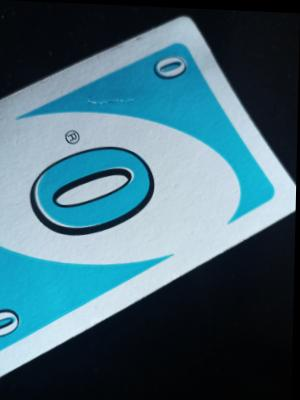blue: (3, 105, 248, 258)
